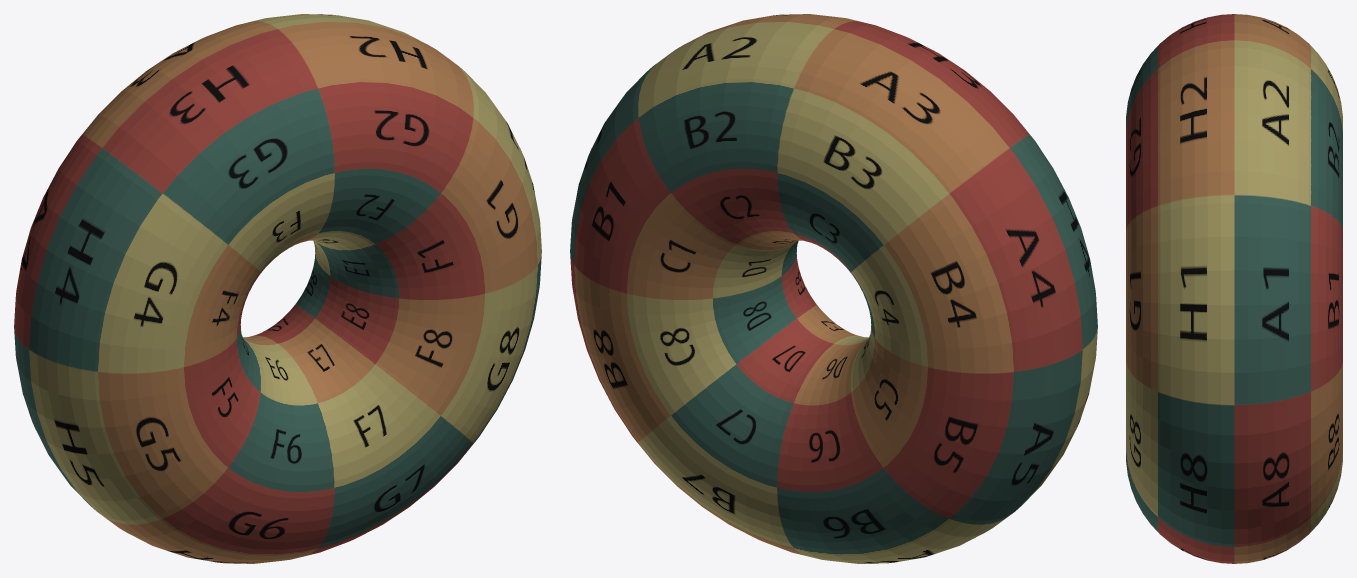
File: texture_torus_R8_r30.glb
3 renders of one model, left to right at view 1: azimuth 30°, elevation 25°; view 2: azimuth 150°, elevation 25°; view 3: azimuth 270°, elevation 25°, orthographic. The views are drawn at different scales.
Visible parts, largest first — view 1: world; view 2: world; view 3: world.
Boxes of the visible parts, left/top/right/bottom form: world: left=14, top=14, right=541, bottom=563; world: left=570, top=14, right=1097, bottom=563; world: left=1126, top=14, right=1342, bottom=563.
Bounding box in the file's own units: 25.33 × 25.28 × 9.98.
1 material, 1 textured.
